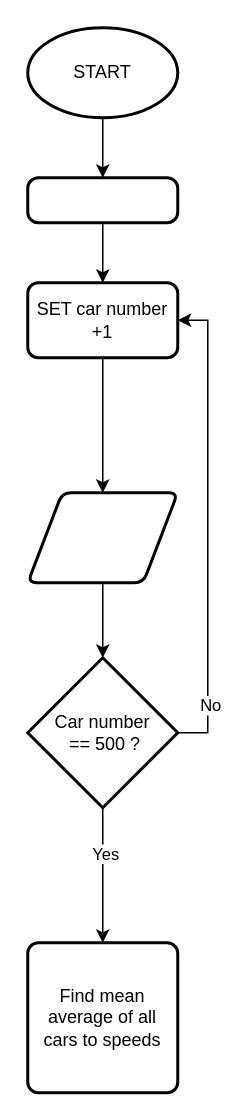
Some shapes in this 246 by 1119 pixel diagram are drawn without their labels. Here are the shapes that lost their labels. From the top down, the centre of each, then its label:
At point (102, 200): "Car number = 0".
At point (102, 537): "Input top speed of car (km/hr)".
